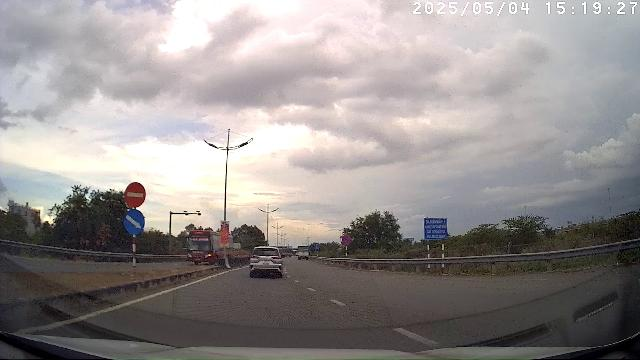102-cam-di-nguoc-chieu: (124, 181, 147, 208)
130-cam-dung-va-do-xe: (341, 234, 352, 245)
302a-huong-phai-di-vong-chuong-ngai-vat-1: (123, 209, 145, 235)
